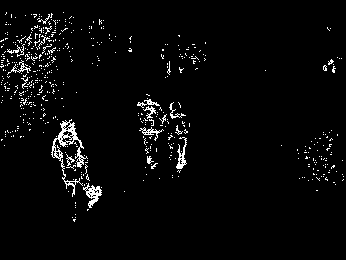person: (45, 118, 101, 222), (128, 91, 161, 172), (165, 96, 194, 178)
